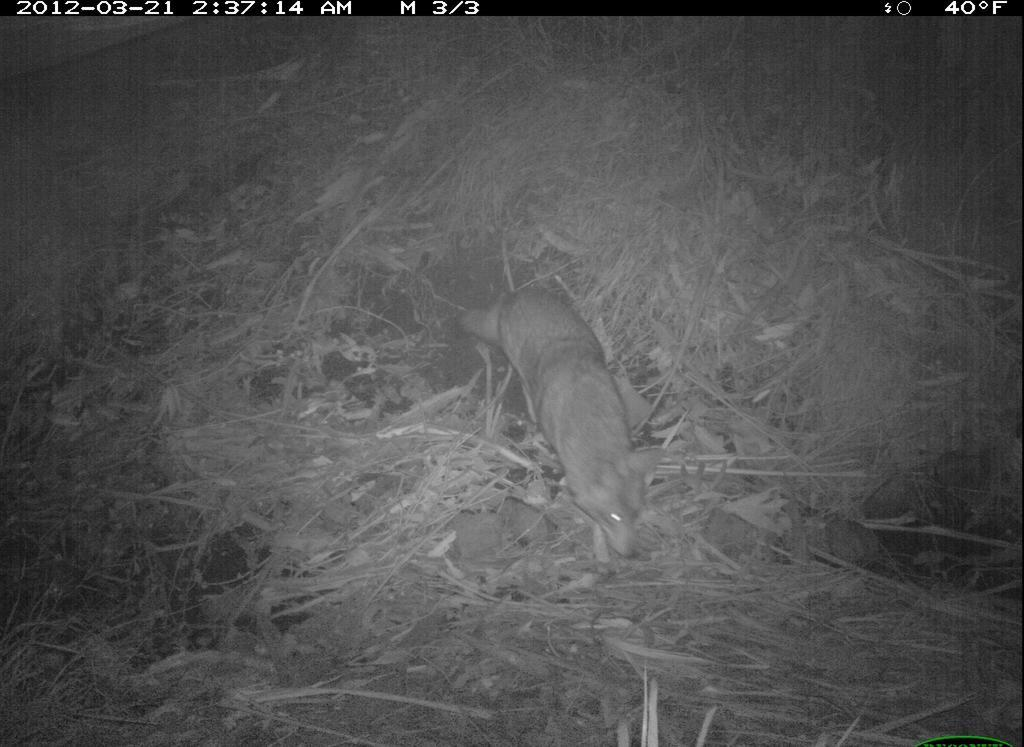coyote: (450, 281, 674, 591)
